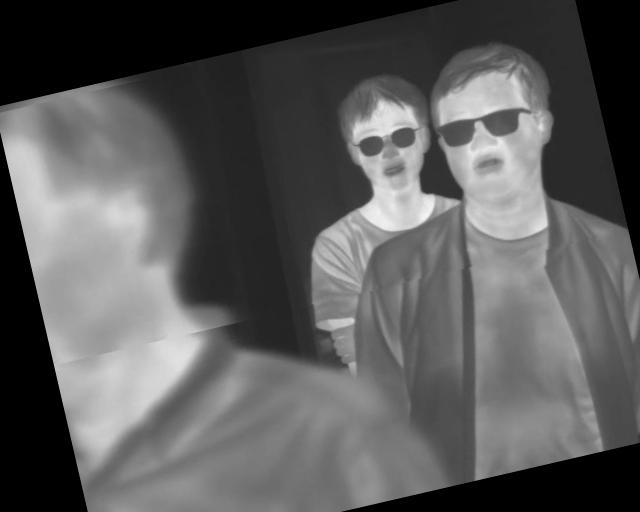face: (418, 29, 573, 217), (328, 64, 443, 202)
